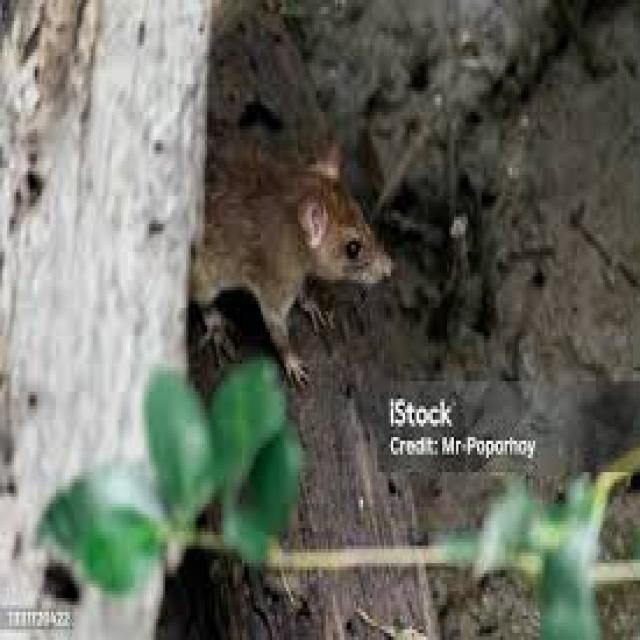Rat: (201, 119, 407, 372)
